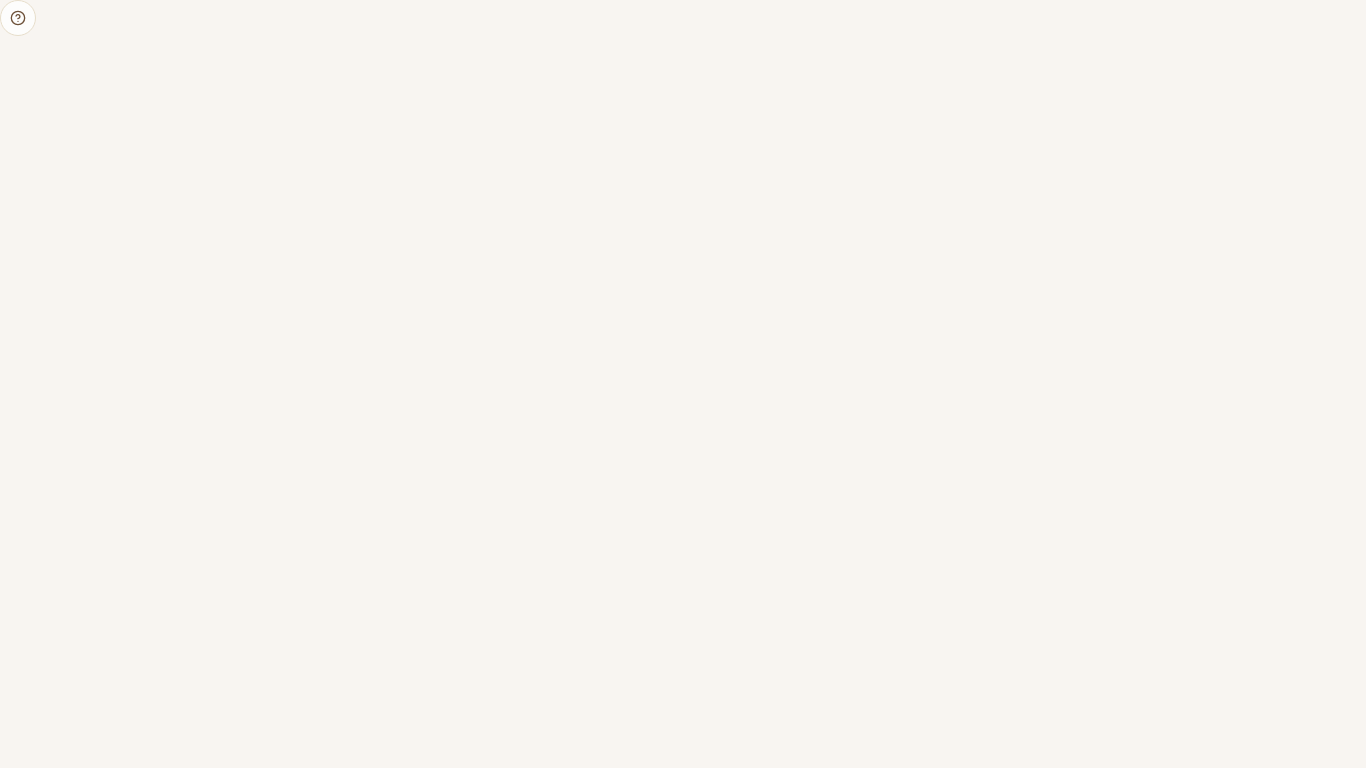
Scenario: clicking the trigger opens the drawer at the configured topic
The width and height of the screenshot is (1366, 768).
Click the button named "How Study Home works": click(18, 18) [0,0,36,36]
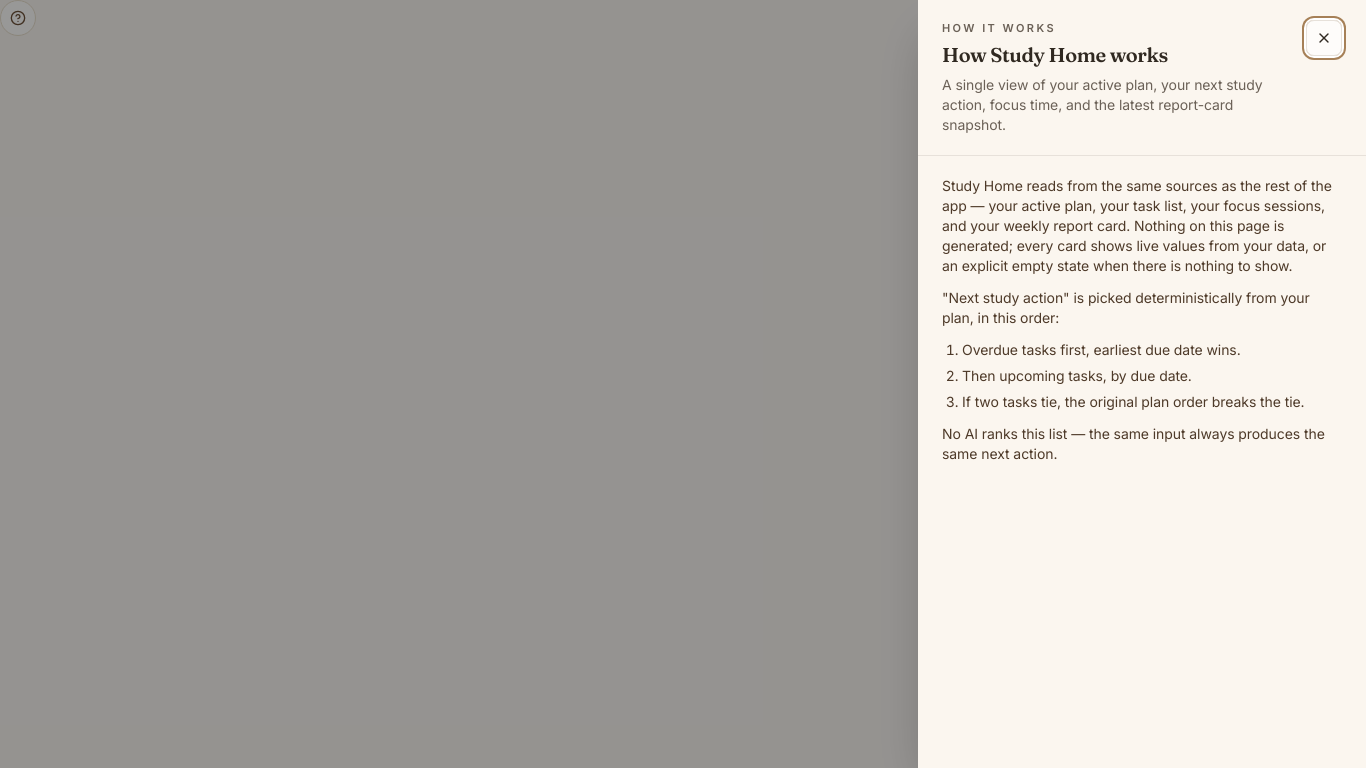
Check: the heading "How Study Home works" is shown, box [942,42,1168,66]
